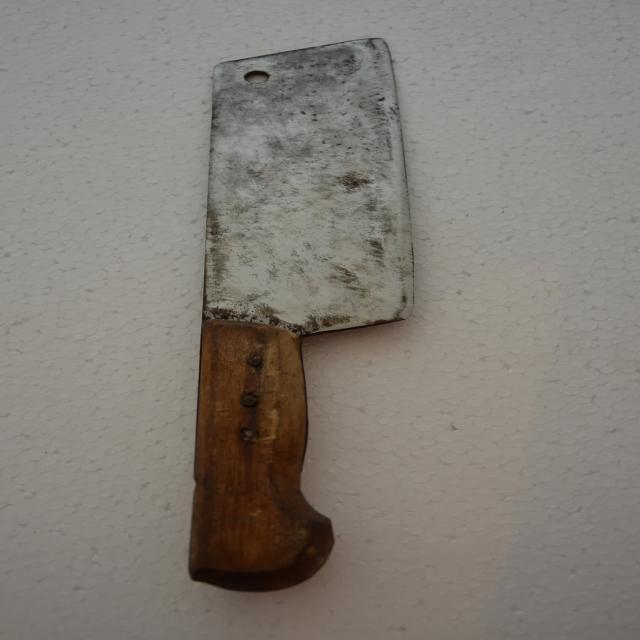cleaver: (202, 37, 400, 590)
